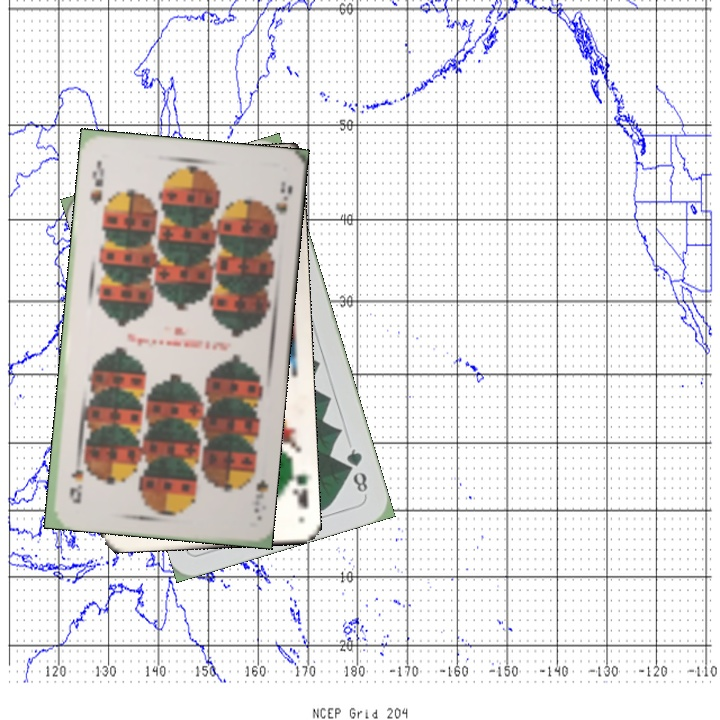G8: (342, 444, 370, 498)
GK: (283, 459, 311, 512)
S9: (86, 156, 107, 207), (249, 475, 269, 516)
